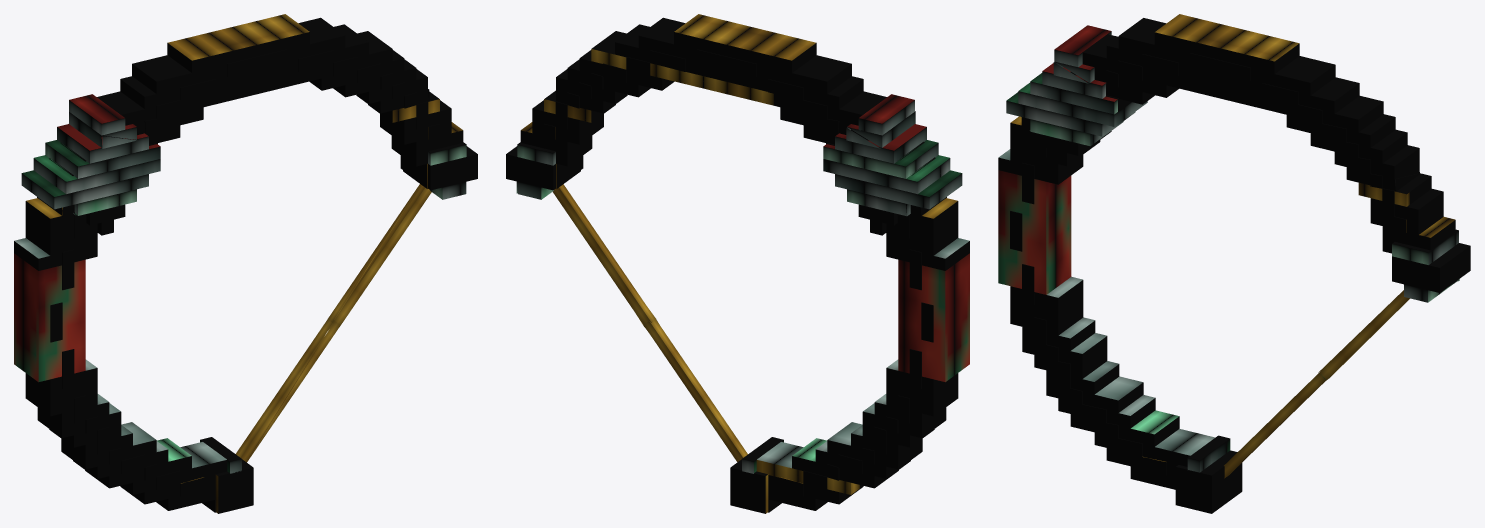
Rendered from moon_gate_bow.obj.
The picture shows the model from 3 angles, left to right: view 1: azimuth 30°, elevation 25°; view 2: azimuth 150°, elevation 25°; view 3: azimuth 330°, elevation 25°; orthographic projection.
Parts seen in each view (by area): view 1: lit; view 2: lit; view 3: lit.
Boxes of the visible parts, box(x1,y1,x2,y2) form: lit: box(14, 14, 477, 513); lit: box(506, 14, 969, 513); lit: box(998, 14, 1470, 513).
Bounding box in the file's own units: 1.16 × 1.16 × 0.1564.
